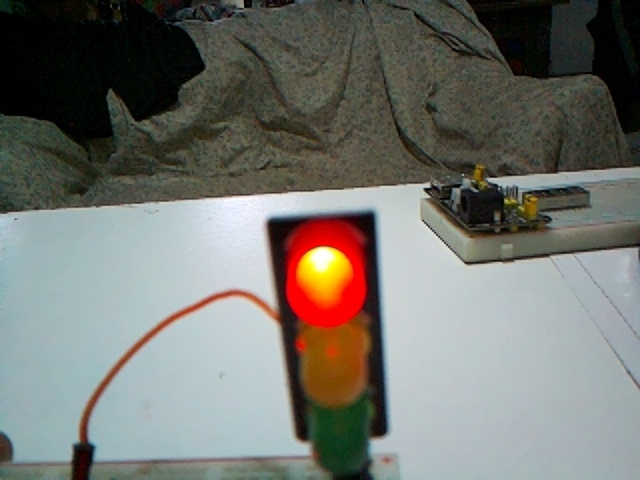traffic_light_red: (268, 212, 387, 476)
